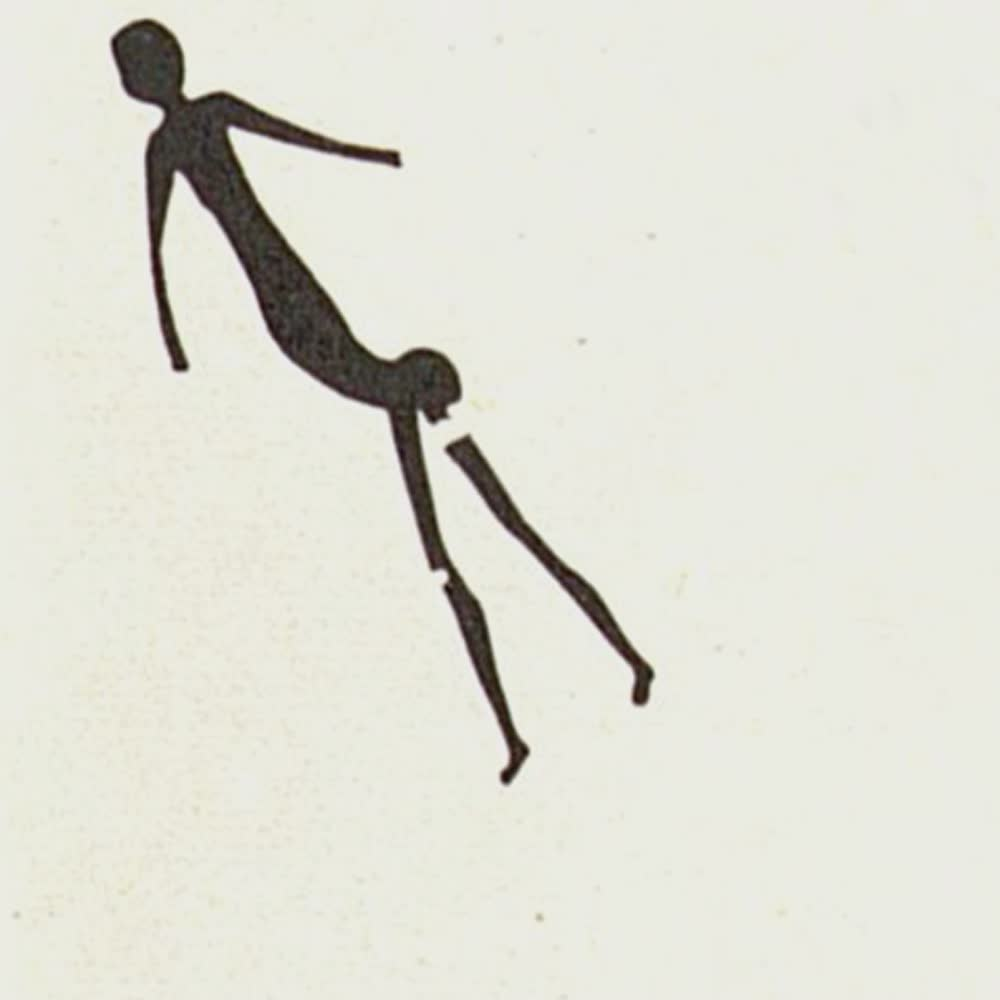man: (104, 16, 661, 790)
